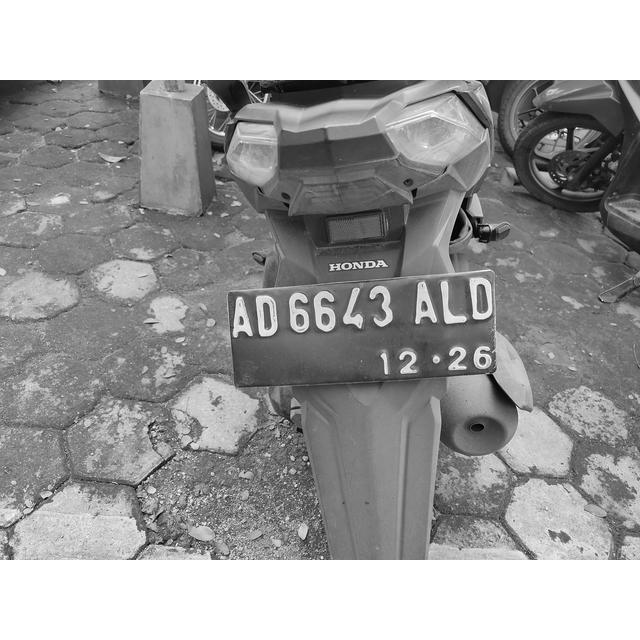license: (230, 273, 495, 381)
